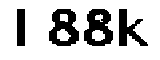8: (48, 6, 81, 49), (84, 8, 115, 48)
k: (117, 6, 151, 49)
l: (11, 8, 37, 53)
